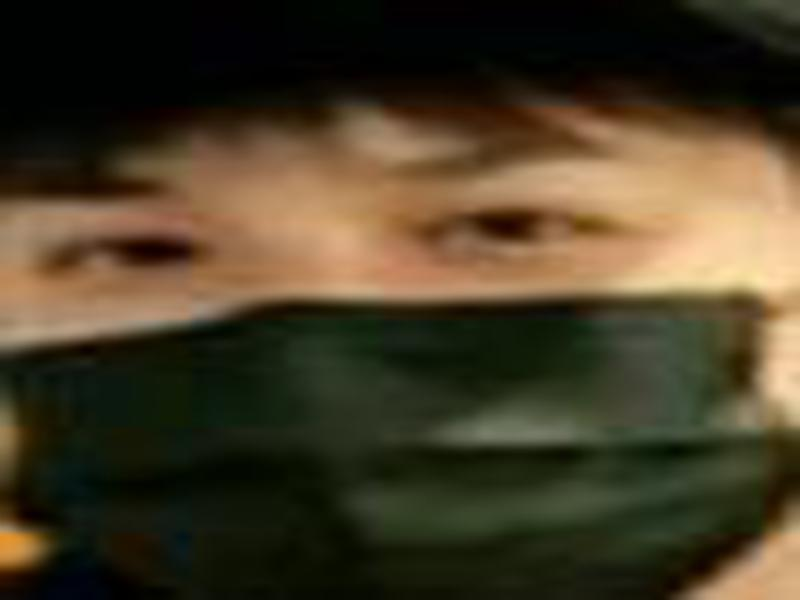with_mask: (1, 92, 795, 600)
